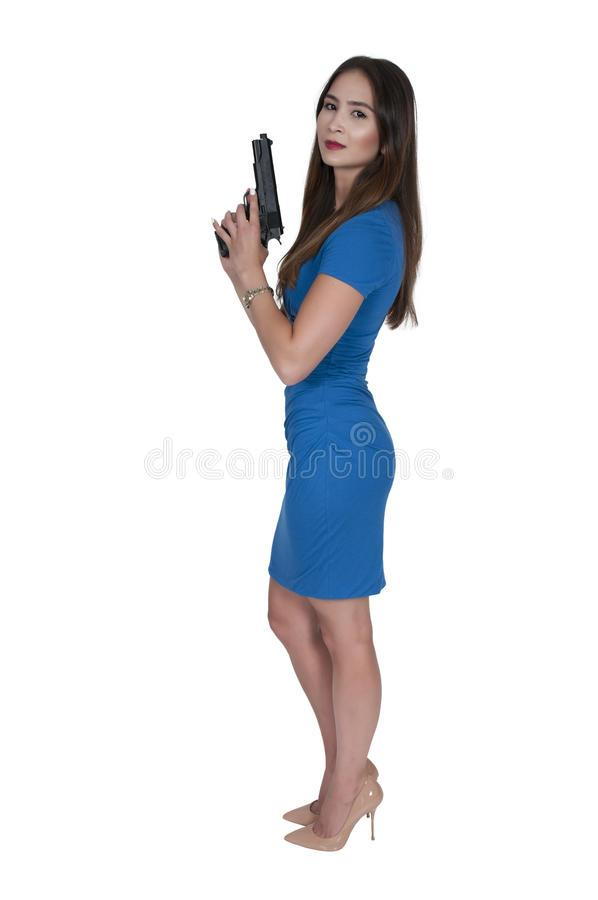criminal: (208, 50, 424, 857)
weapon: (210, 126, 288, 268)
